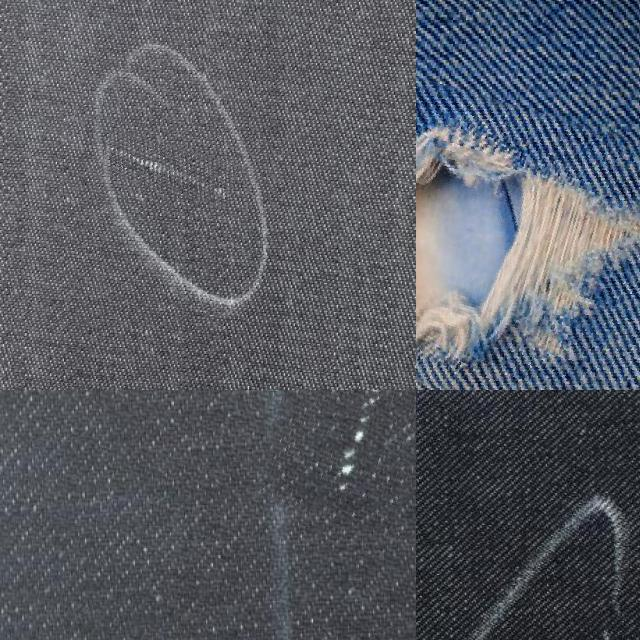Thread_other: (271, 390, 416, 528), (100, 136, 238, 202)
seam: (416, 85, 640, 390)
